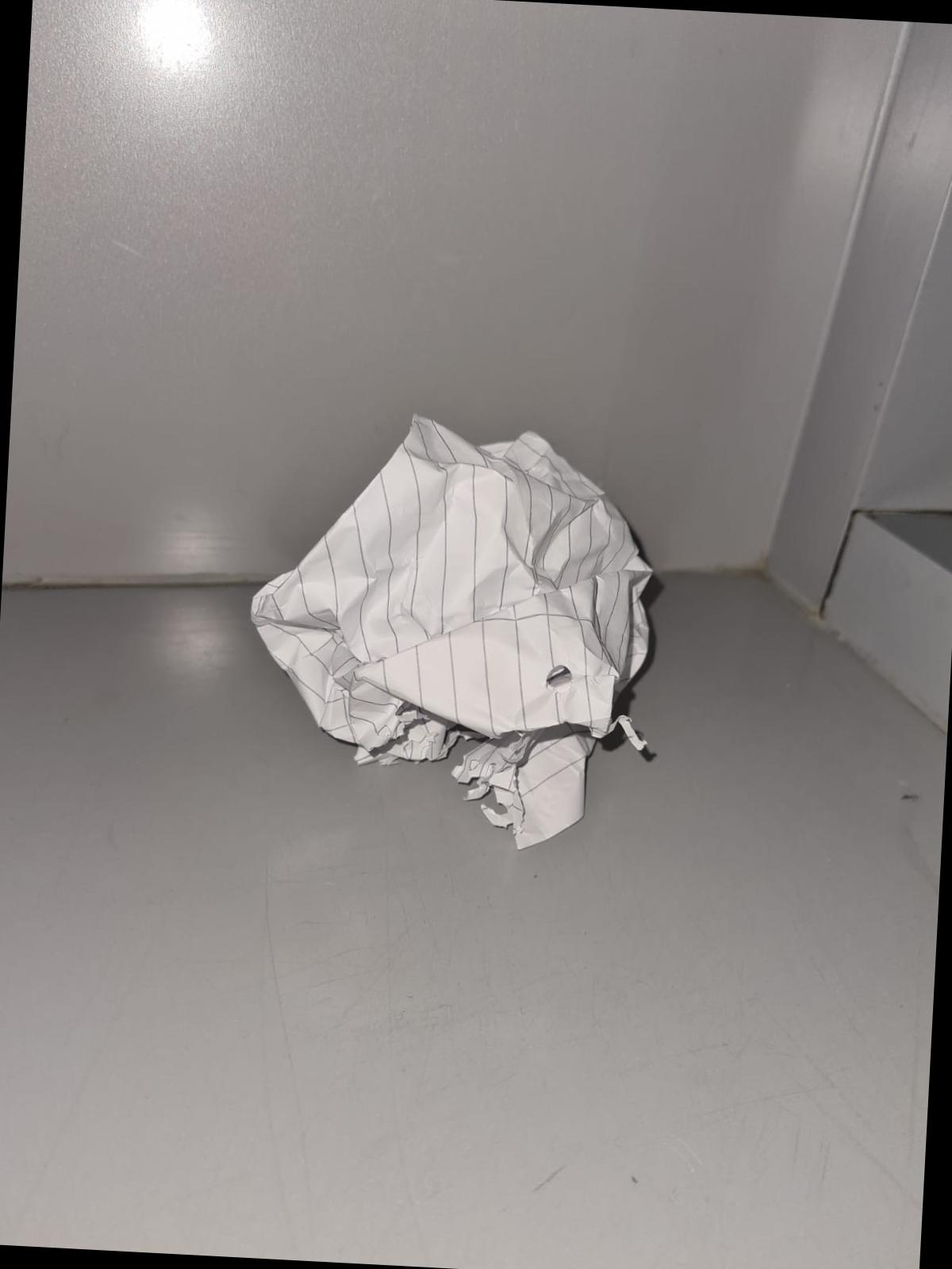Kertas: (253, 415, 651, 847)
